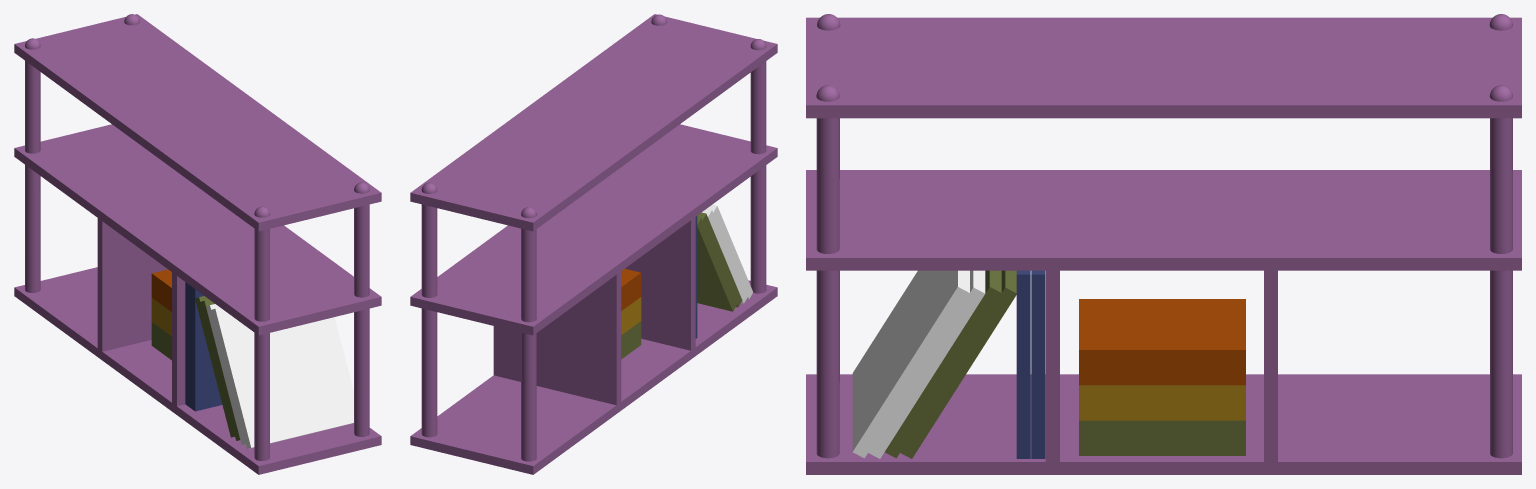
Rendered from librero.obj.
3 views of the same model, side by side, from view 1: azimuth 30°, elevation 25°; view 2: azimuth 150°, elevation 25°; view 3: azimuth 270°, elevation 25° (orthographic). The views are drawn at different scales.
Visible parts, largest first — view 1: pCube18, pCube35, pCube33, pCube22, pCube21, pCube34, pCube32, pCube25, pCube23, pCube24; view 2: pCube18, pCube21, pCube34, pCube35, pCube22, pCube25, pCube23, pCube24; view 3: pCube18, pCube25, pCube35, pCube24, pCube23, pCube22, pCube21, pCube34, pCube32, pCube33.
Boxes of the visible parts, box(x1,y1,x2,y2) form: pCube18: box(14, 14, 381, 474); pCube35: box(211, 307, 353, 448); pCube33: box(190, 286, 222, 411); pCube22: box(200, 299, 240, 440); pCube21: box(195, 296, 234, 437); pCube34: box(206, 304, 245, 445); pCube32: box(185, 282, 190, 407); pCube25: box(151, 269, 171, 311); pCube23: box(151, 322, 171, 360); pCube24: box(151, 298, 171, 335); pCube18: box(410, 14, 777, 474); pCube21: box(697, 217, 736, 311); pCube34: box(702, 209, 747, 303); pCube35: box(707, 204, 752, 299); pCube22: box(697, 212, 742, 307); pCube25: box(621, 269, 641, 310); pCube23: box(621, 321, 641, 359); pCube24: box(621, 297, 641, 334); pCube18: box(806, 14, 1521, 474); pCube25: box(1079, 299, 1245, 385); pCube35: box(852, 270, 969, 458); pCube24: box(1079, 385, 1245, 420); pCube23: box(1079, 420, 1245, 455); pCube22: box(885, 270, 1001, 458); pCube21: box(900, 270, 1016, 458); pCube34: box(868, 270, 985, 458); pCube32: box(1031, 270, 1045, 458); pCube33: box(1016, 270, 1030, 458).
Bounding box in the file's own units: 37.39 × 75.38 × 129.
6 materials, 6 textured.
